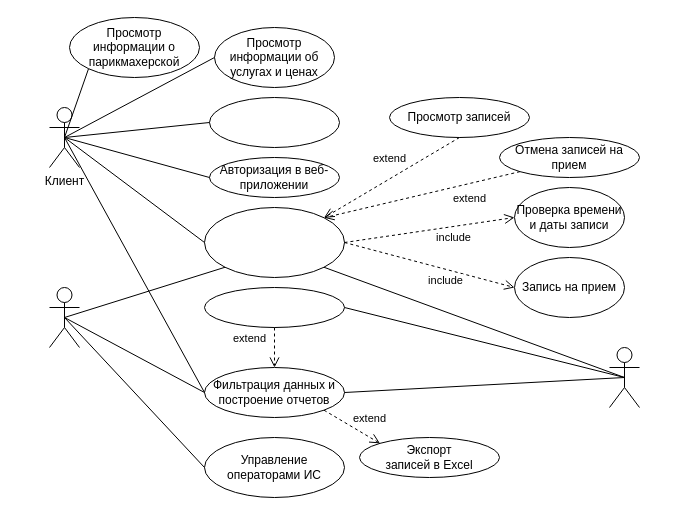
The diagram is 674 pixels wide and 515 high, and some of its shapes have lost their labels. Here are the shapes that lost their labels. From the top down, the centre of each, then its label:
the point at 274,122: Регистрация в веб-приложении
the point at 274,242: Онлайн запись в парикмахерскую
the point at 64,317: Руководитель парикмахерской (администратор)
the point at 274,307: Редактирование записей
the point at 624,377: Стилист- парикмахер
